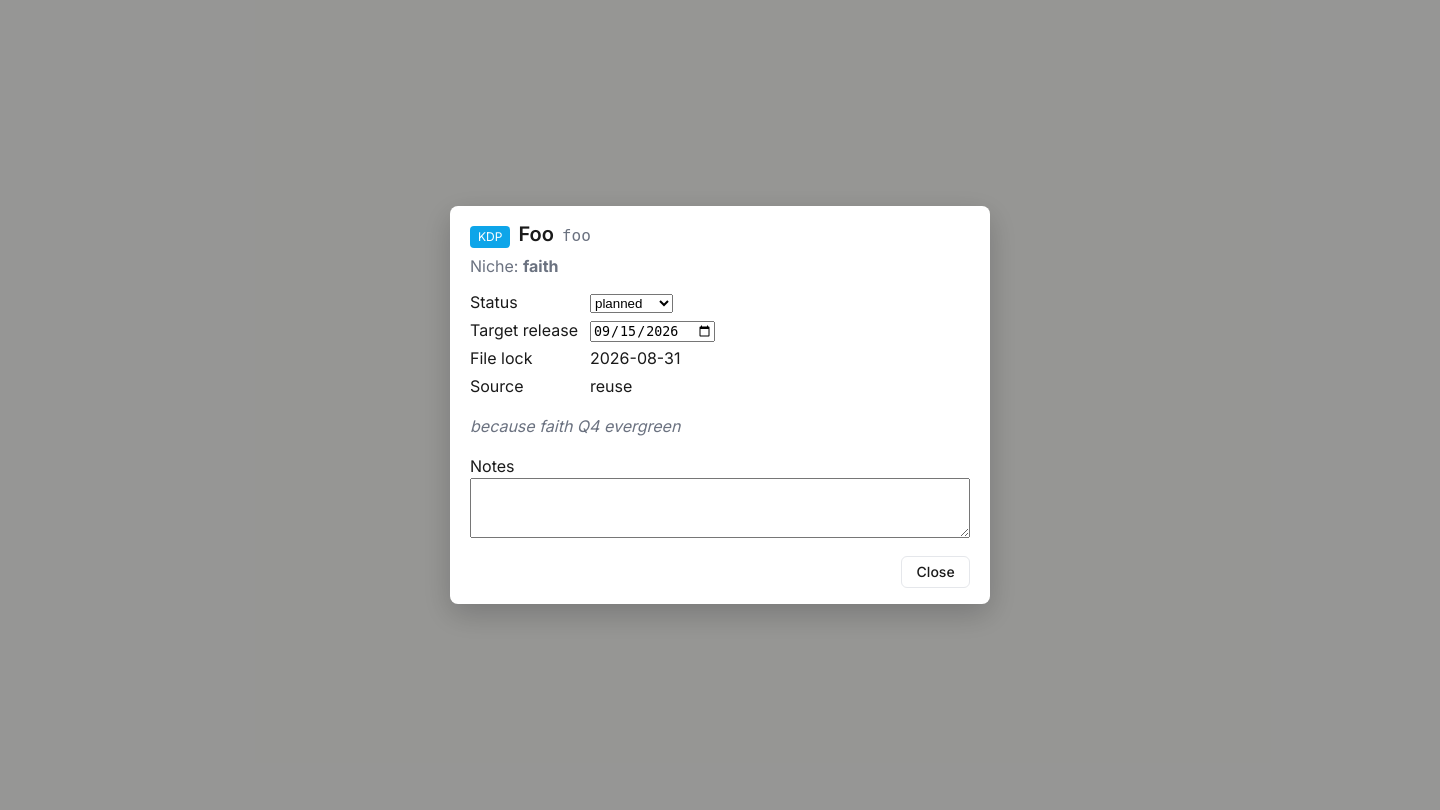
Test: RoadmapDetailModal › changing target_release_date recomputes file_lock_date via PUT response
Expected: the heading "Foo" is shown, [518,222,554,246]
Type "2026-12-01" into the date field labelled "Target release" at coordinates (653, 331), box [590,321,715,342]
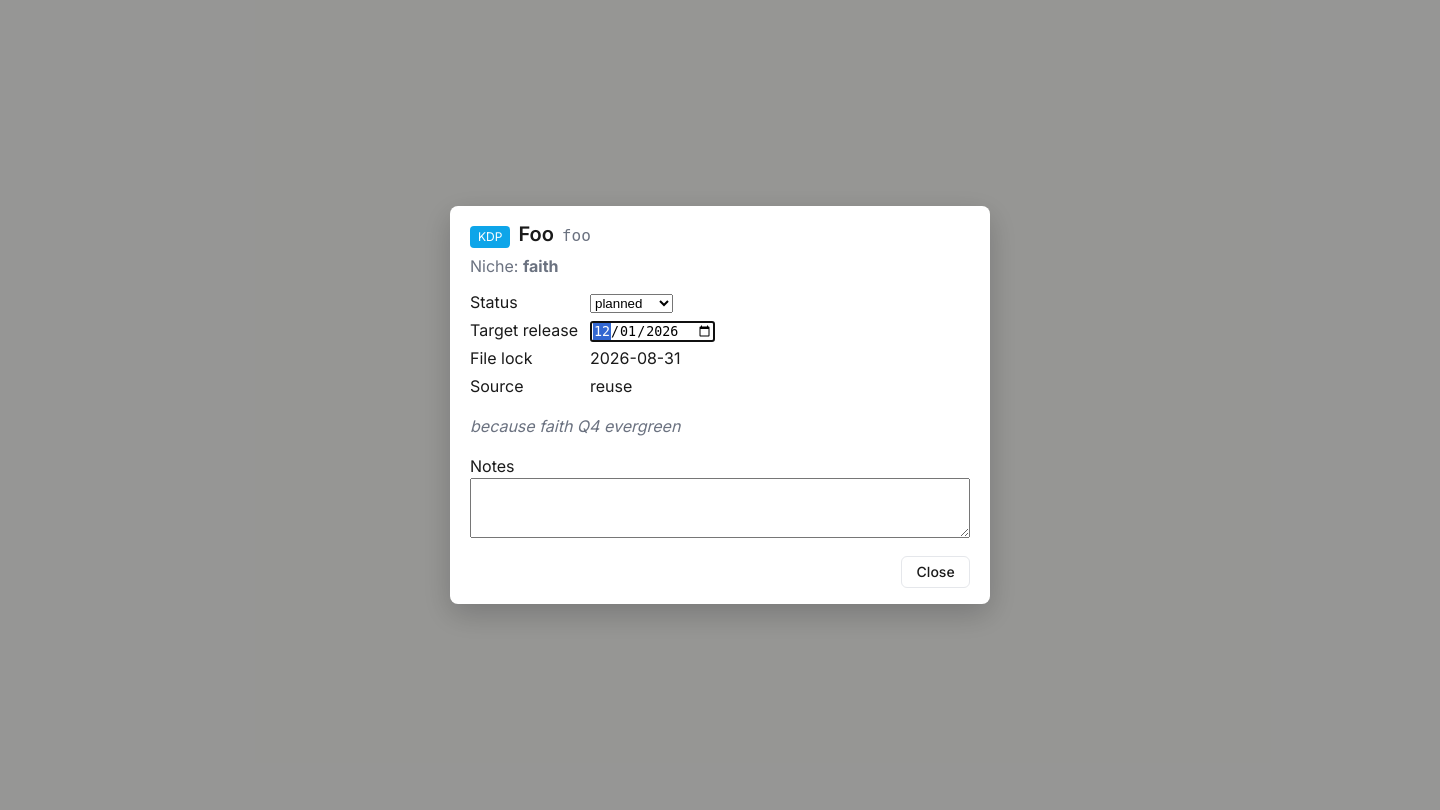
Press Tab
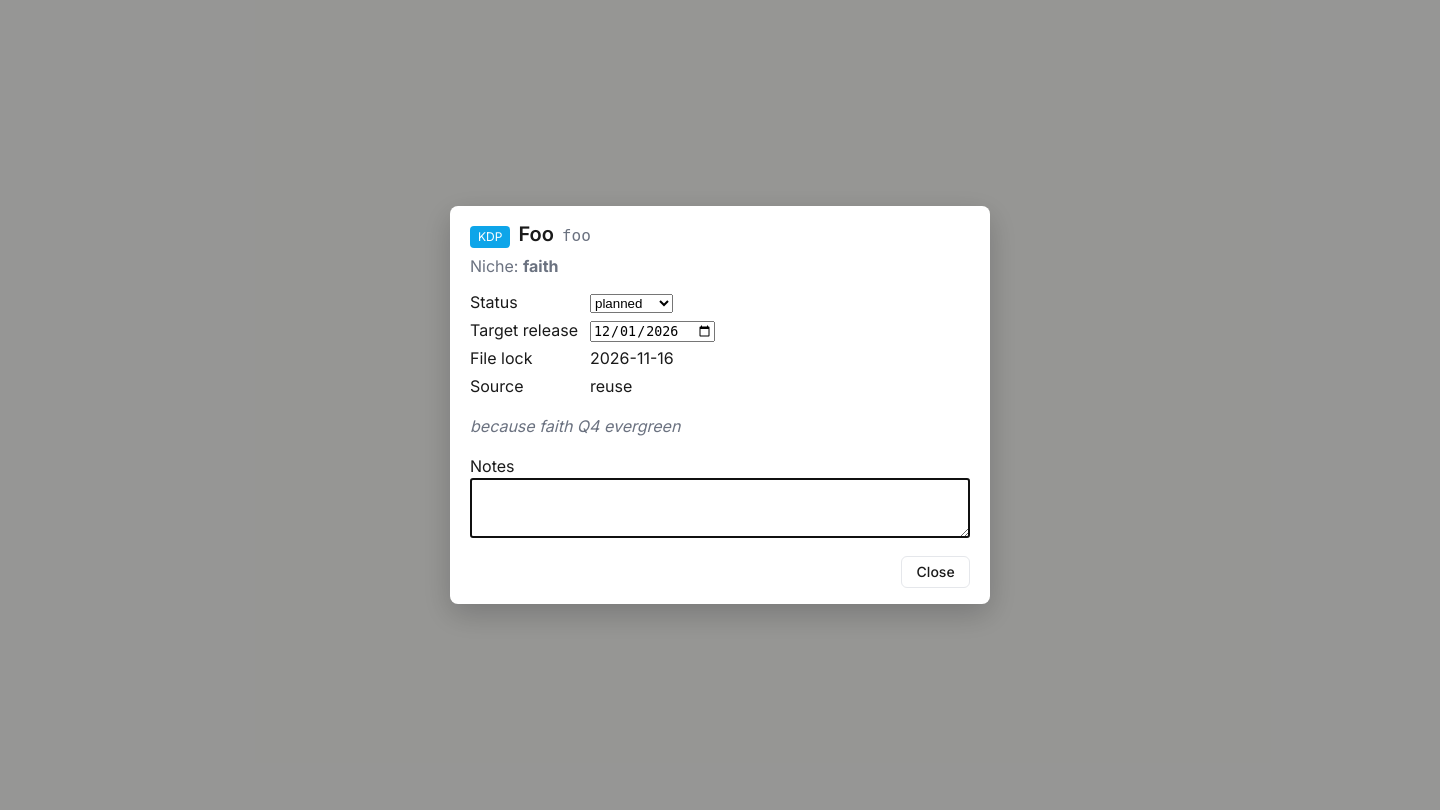
Result: the text "2026-11-16" is shown at [590,348,674,368]
